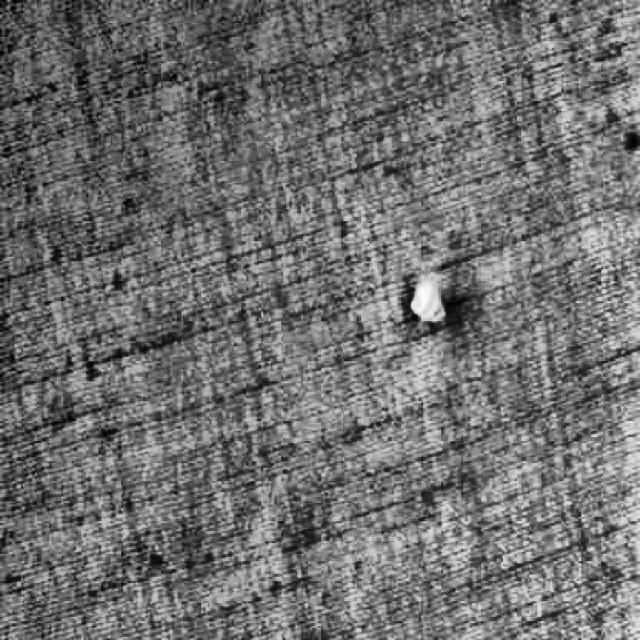hole: (408, 270, 456, 332)
